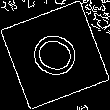O_SE: (23, 25, 87, 85)
